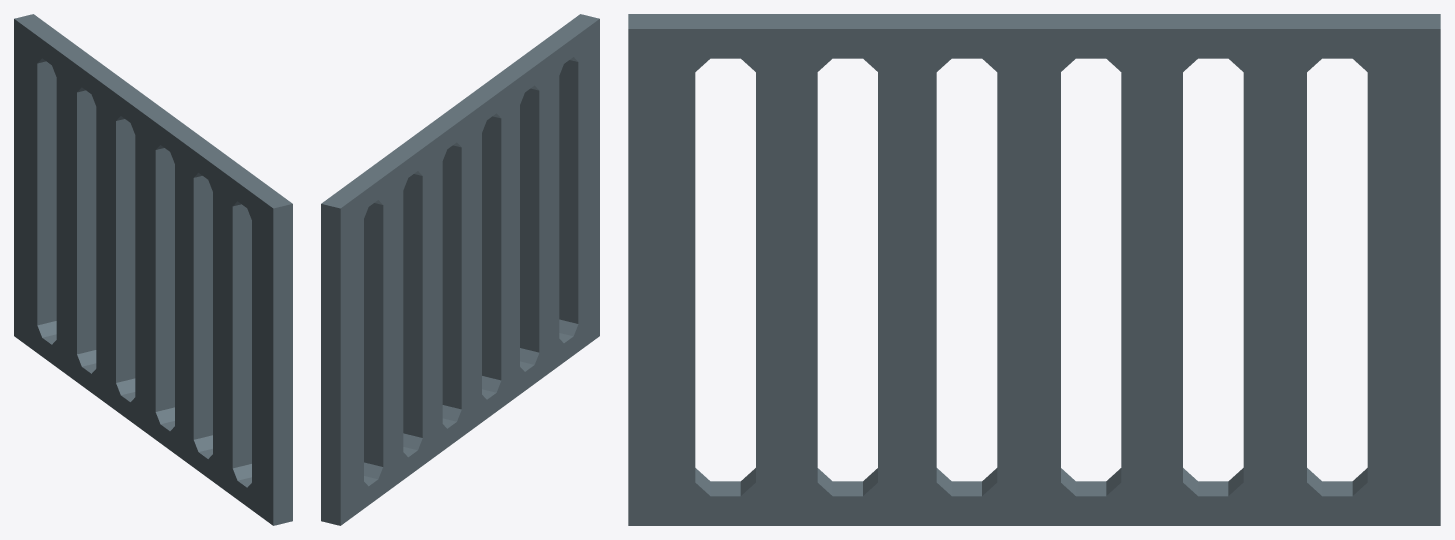
File: plaka 1.fbx
3 renders of one model, left to right at view 1: azimuth 30°, elevation 25°; view 2: azimuth 150°, elevation 25°; view 3: azimuth 270°, elevation 25°, orthographic. The views are drawn at different scales.
Visible parts, largest first — view 1: pCube406; view 2: pCube406; view 3: pCube406.
Boxes of the visible parts, bbox=[...] form: pCube406: bbox=[14, 14, 292, 525]; pCube406: bbox=[321, 14, 599, 525]; pCube406: bbox=[628, 14, 1440, 525].
Size of the model in its own units: 8.92 by 139 by 206.
